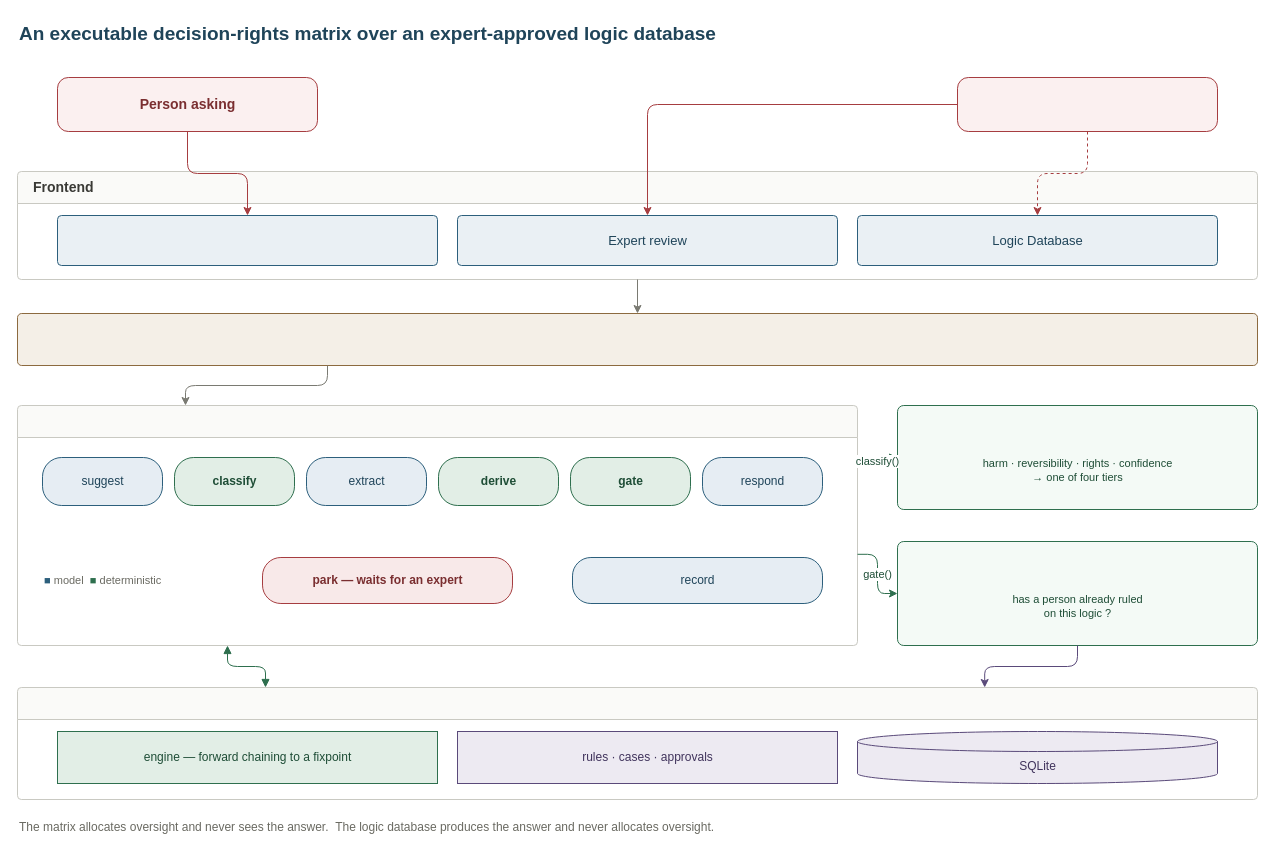
Image size: 1275x858. Some labels were removed from this diagram. Each missing label, with the box of its shape:
Agent: (16, 404, 858, 646)
Console: (56, 214, 438, 266)
Decision-rights matrix: (896, 404, 1258, 510)
Domain expert: (956, 76, 1218, 132)
HTTP API: (16, 312, 1258, 366)
Logic database — Datalog: (16, 686, 1258, 800)
Oversight gate: (896, 540, 1258, 646)
